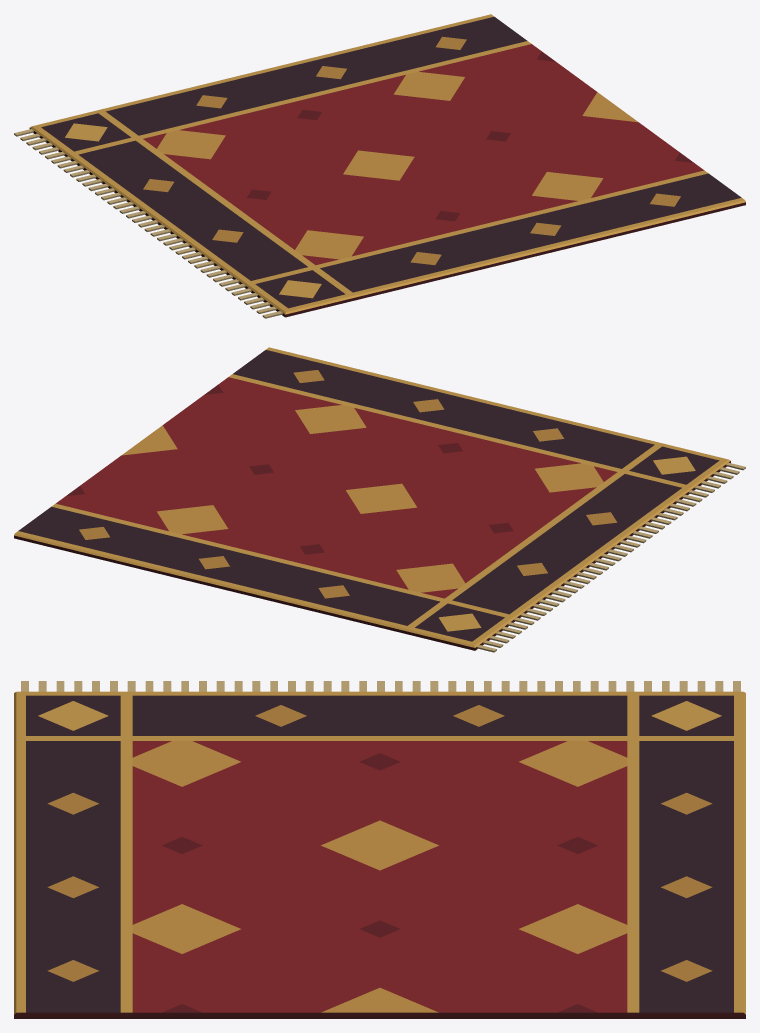
File: carpet_red_runner_end_A.glb
The picture shows the model from 3 angles, top to bottom: view 1: azimuth 30°, elevation 25°; view 2: azimuth 150°, elevation 25°; view 3: azimuth 270°, elevation 25°; orthographic projection. The views are drawn at different scales.
Parts seen in each view (by area): view 1: Item; view 2: Item; view 3: Item.
Boxes of the visible parts, left/top/right/bottom form: Item: left=14, top=14, right=745, bottom=318; Item: left=14, top=347, right=745, bottom=652; Item: left=14, top=681, right=745, bottom=1018.
Bounding box in the file's own units: 4 × 0.035 × 3.7.
1 material, 1 textured.
